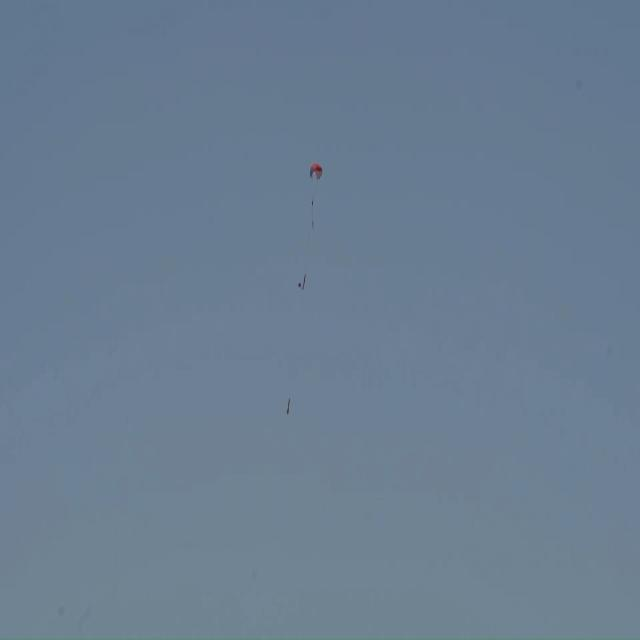Rocket: (286, 397, 290, 415)
